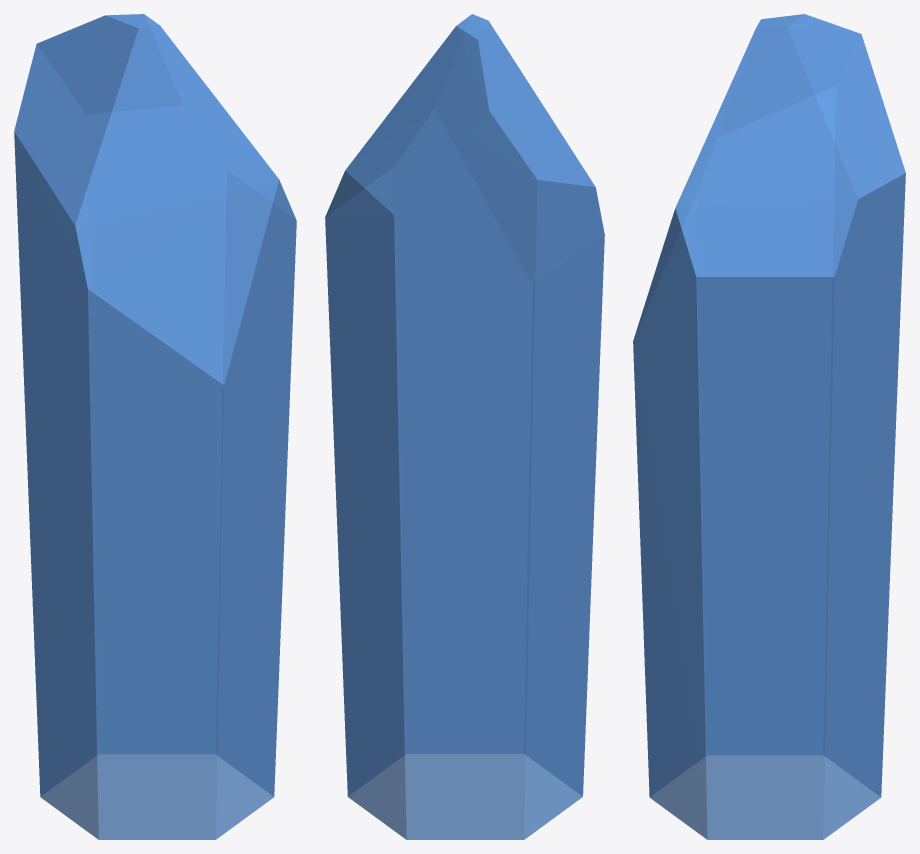
File: Crystal_m_07 2.fbx
3 views of the same model, side by side, from view 1: azimuth 30°, elevation 25°; view 2: azimuth 150°, elevation 25°; view 3: azimuth 270°, elevation 25° (orthographic).
Visible parts, largest first — view 1: Crystal_m_07; view 2: Crystal_m_07; view 3: Crystal_m_07.
Boxes of the visible parts, x1,y1,x2,y2 form: Crystal_m_07: (14,14,296,839); Crystal_m_07: (325,14,604,839); Crystal_m_07: (633,14,905,839).
Bounding box in the file's own units: 45.7 × 160 × 51.43.
